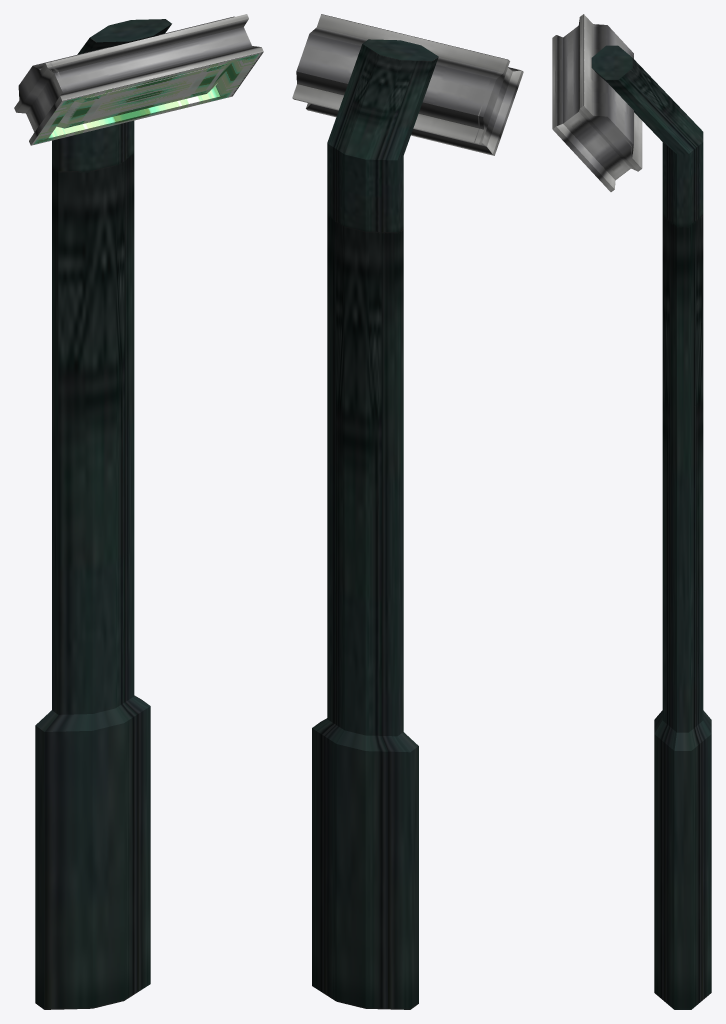
The model's file is outland_lamp01.fbx.
3 views of the same model, side by side, from view 1: azimuth 30°, elevation 25°; view 2: azimuth 150°, elevation 25°; view 3: azimuth 270°, elevation 25° (orthographic). The views are drawn at different scales.
Visible parts, largest first — view 1: Cube.002; view 2: Cube.002; view 3: Cube.002.
Boxes of the visible parts, x1,y1,x2,y2 form: Cube.002: [14, 14, 263, 1009]; Cube.002: [292, 14, 523, 1009]; Cube.002: [552, 14, 711, 1009].
Bounding box in the file's own units: 106 × 501 × 77.93.
Materials: 2 (2 with a texture image).
